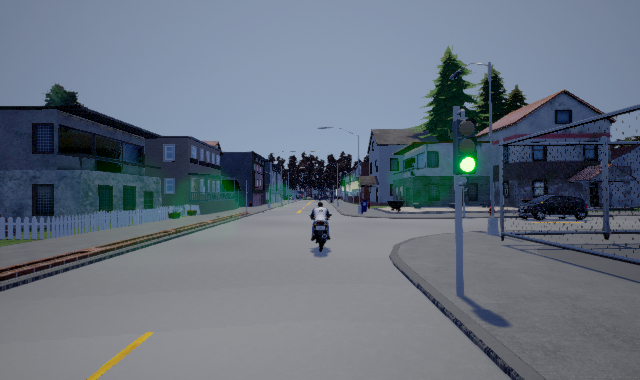motobike: (309, 200, 335, 253)
traffic_light: (452, 117, 479, 175)
vehicle: (518, 195, 588, 221)
